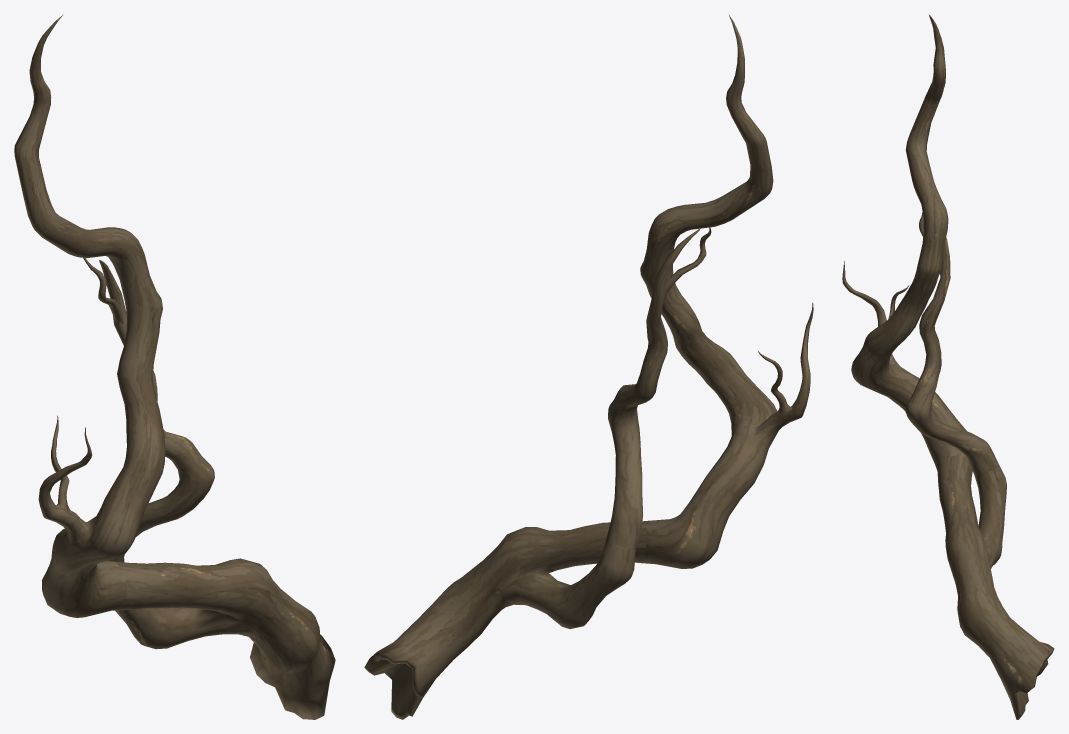
File: Area_Xm_Stone_JQR_Full_Tm_M_02.fbx
The picture shows the model from 3 angles, left to right: view 1: azimuth 30°, elevation 25°; view 2: azimuth 150°, elevation 25°; view 3: azimuth 270°, elevation 25°; orthographic projection. The views are drawn at different scales.
Parts seen in each view (by area): view 1: Area_Xm_Stone_JQR_Full_Tm_M_02_Lod0; view 2: Area_Xm_Stone_JQR_Full_Tm_M_02_Lod0; view 3: Area_Xm_Stone_JQR_Full_Tm_M_02_Lod0.
Part boxes in pixels (x1=…): Area_Xm_Stone_JQR_Full_Tm_M_02_Lod0: x1=14, y1=14, x2=335, y2=719; Area_Xm_Stone_JQR_Full_Tm_M_02_Lod0: x1=364, y1=14, x2=813, y2=719; Area_Xm_Stone_JQR_Full_Tm_M_02_Lod0: x1=842, y1=15, x2=1054, y2=719.
Size of the model in its own units: 51.13 by 102 by 32.83.
Materials: 1 (1 with a texture image).
